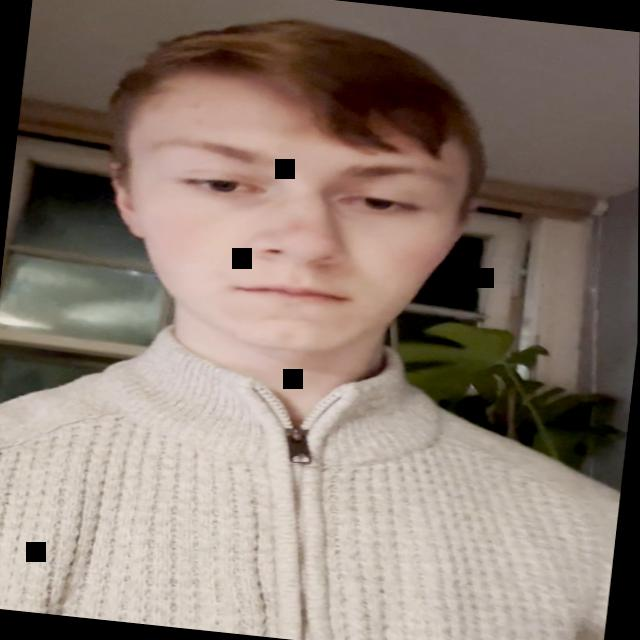NO-Mask: (104, 40, 481, 371)
